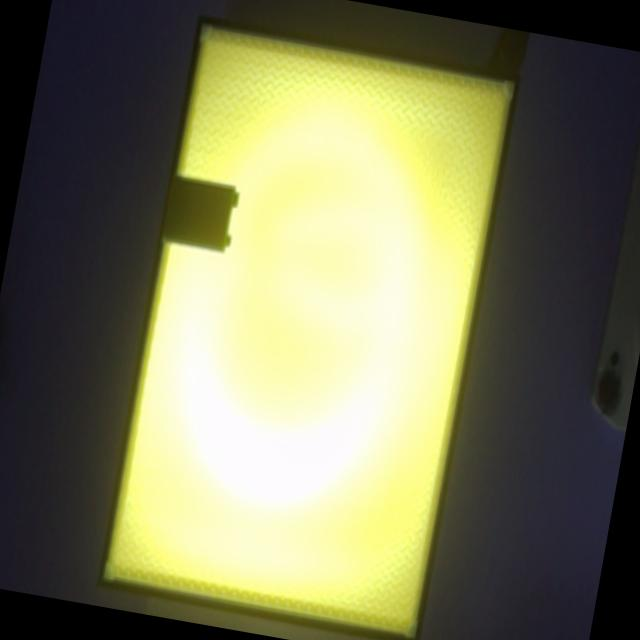bateria: (163, 177, 239, 253)
mesa: (98, 14, 520, 640)
